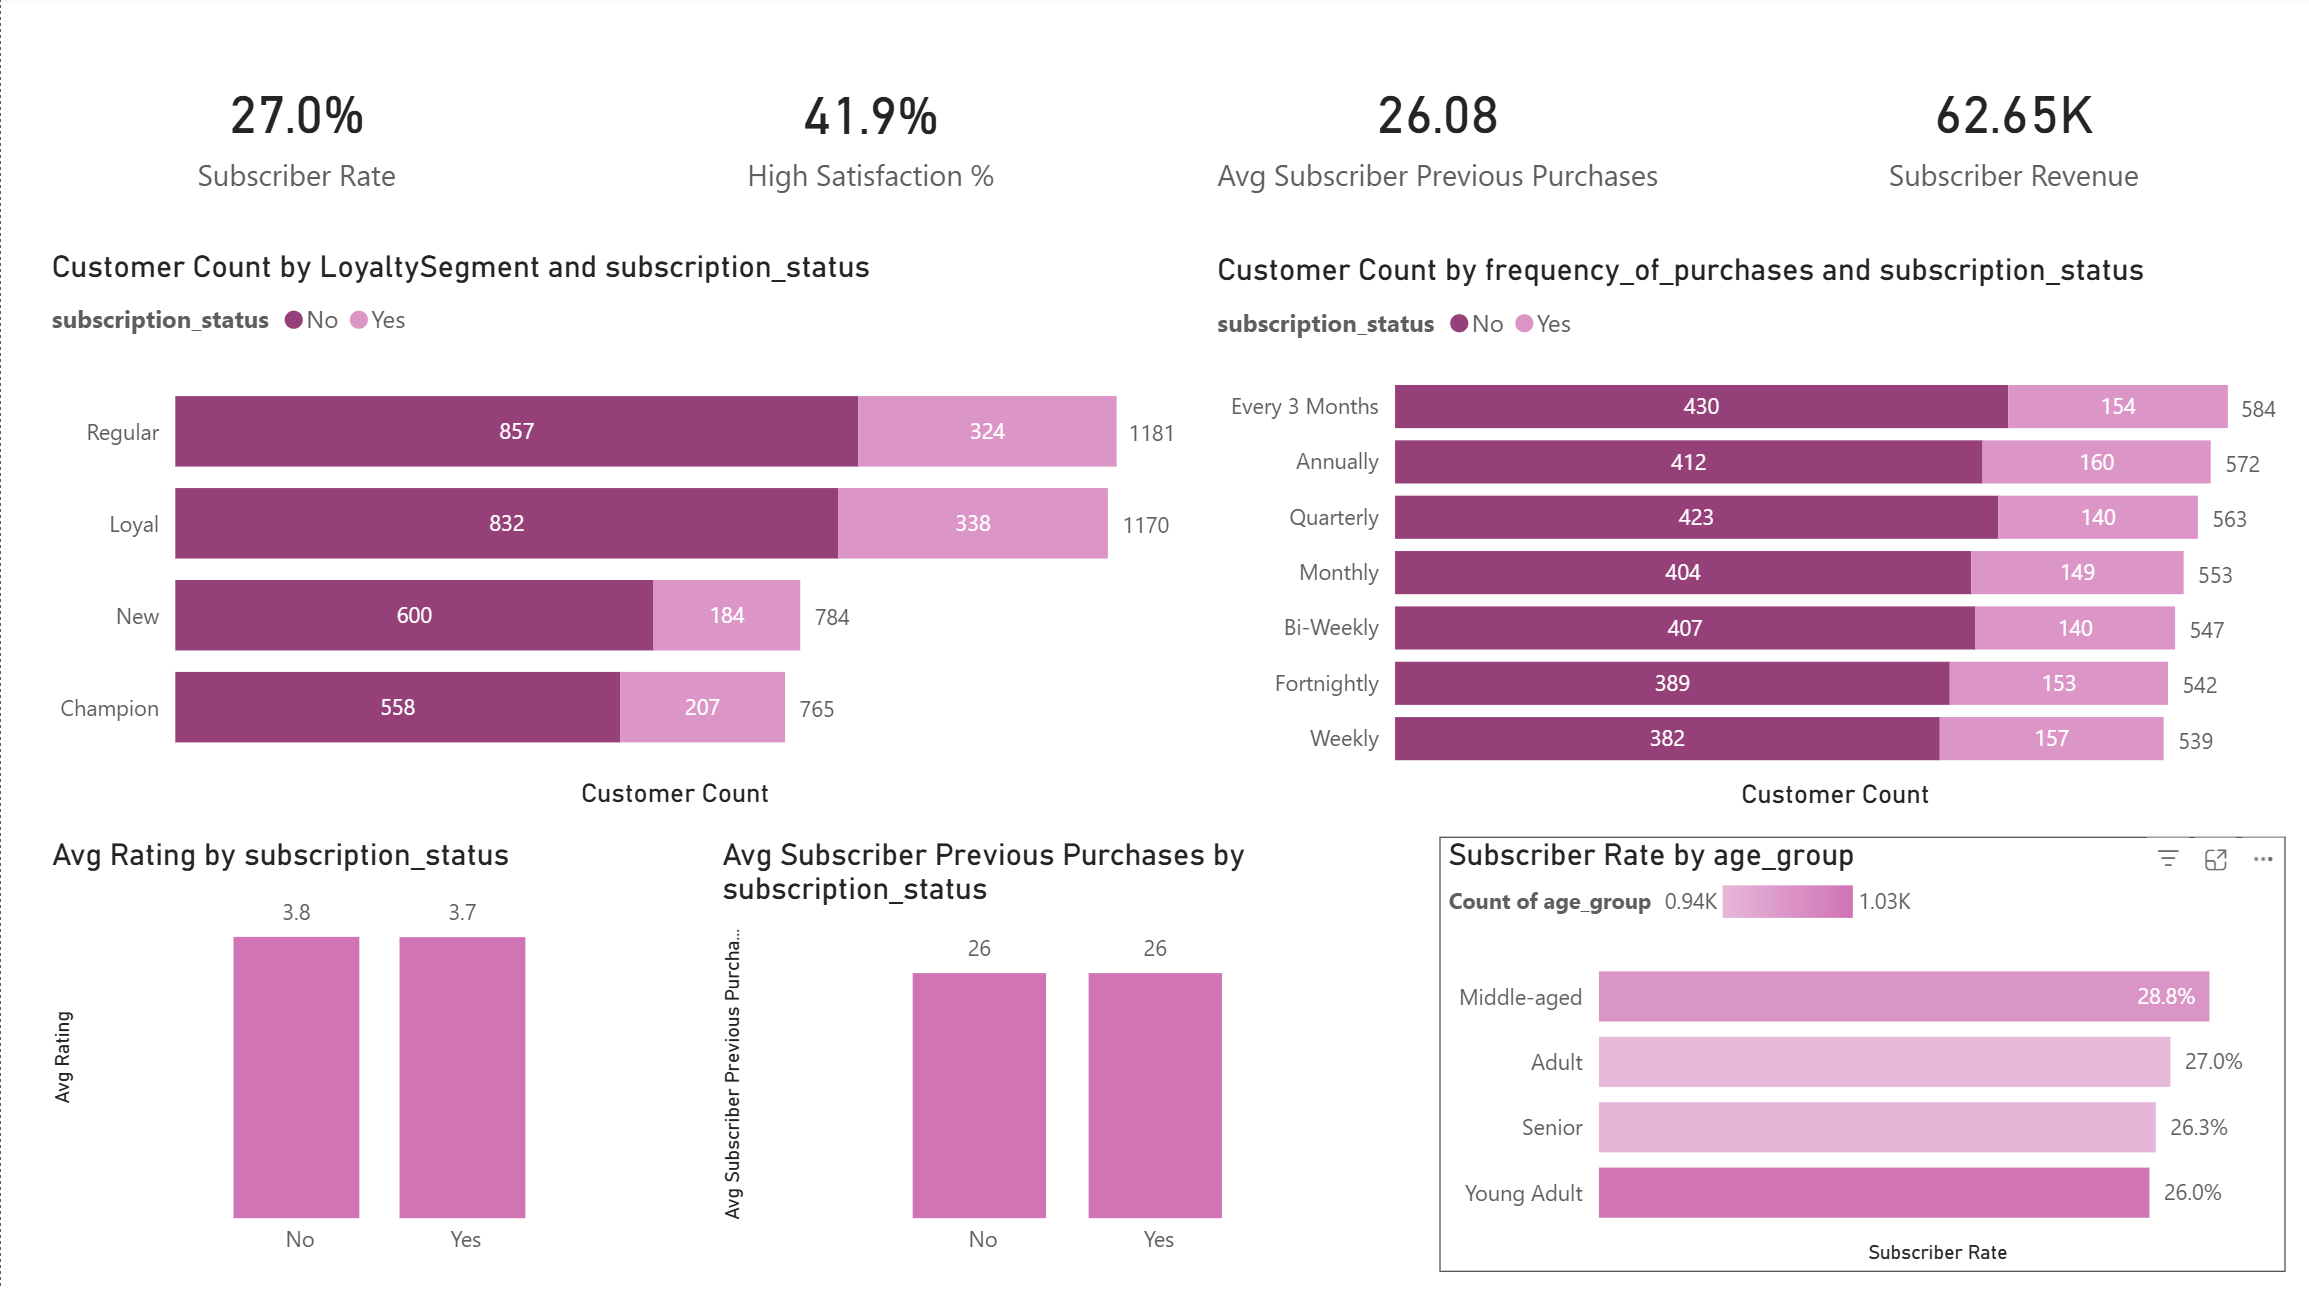

This screenshot's page, from the dashboard's own definition file:
{"tool":"powerbi","page":{"name":"Subscriptions","canvas":[1280,720],"ordinal":4},"visuals":[{"type":"card","fields":{"Values":["Table.Subscriber Rate"]},"box":[23.5,8.6,280.2,132.1],"z":0},{"type":"card","fields":{"Values":["Table.High Satisfaction %"]},"box":[340.7,9.9,280.2,130.9],"z":1000},{"type":"card","fields":{"Values":["CustomerData.Subscriber Revenue"]},"box":[963,8.6,300,132.1],"z":2000},{"type":"card","fields":{"Values":["CustomerData.Avg Subscriber Previous Purchases"]},"box":[654.3,8.6,280.2,132.1],"z":3000},{"type":"barChart","fields":{"Category":["CustomerData.LoyaltySegment"],"Y":["Table.Customer Count"],"Series":["CustomerData.subscription_status"]},"box":[23.5,140.7,630.9,313.6],"z":4000},{"type":"barChart","fields":{"Category":["CustomerData.frequency_of_purchases"],"Y":["Table.Customer Count"],"Series":["CustomerData.subscription_status"]},"box":[667.9,142,595.1,312.3],"z":5000},{"type":"columnChart","fields":{"Category":["CustomerData.subscription_status"],"Y":["Table.Avg Rating"]},"box":[23.5,465.4,358,240.7],"z":6000},{"type":"columnChart","fields":{"Category":["CustomerData.subscription_status"],"Y":["CustomerData.Avg Subscriber Previous Purchases"]},"box":[393.8,465.4,377.8,240.7],"z":7000},{"type":"clusteredBarChart","fields":{"Category":["CustomerData.age_group"],"Y":["Table.Subscriber Rate"]},"box":[795.1,465.4,467.9,240.7],"z":8000}]}

Visuals, with their boxes in screenshot pixels (x1, y1, x2, y2), scaled from the page's 1280x720 canvas onto the 2309x1289 screenshot:
card - Table.Subscriber Rate: locate(42, 15, 548, 252)
card - Table.High Satisfaction %: locate(615, 18, 1120, 252)
card - CustomerData.Subscriber Revenue: locate(1737, 15, 2278, 252)
card - CustomerData.Avg Subscriber Previous Purchases: locate(1180, 15, 1686, 252)
barChart - CustomerData.LoyaltySegment x Table.Customer Count: locate(42, 252, 1180, 813)
barChart - CustomerData.frequency_of_purchases x Table.Customer Count: locate(1205, 254, 2278, 813)
columnChart - CustomerData.subscription_status x Table.Avg Rating: locate(42, 833, 688, 1264)
columnChart - CustomerData.subscription_status x CustomerData.Avg Subscriber Previous Purchases: locate(710, 833, 1392, 1264)
clusteredBarChart - CustomerData.age_group x Table.Subscriber Rate: locate(1434, 833, 2278, 1264)
